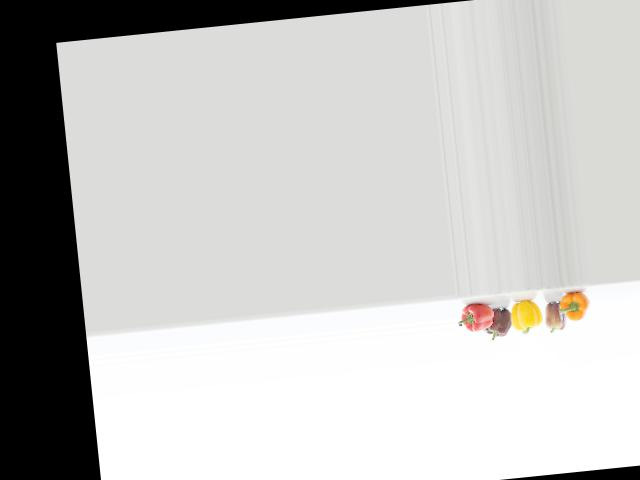bell_pepper: (556, 287, 593, 332)
